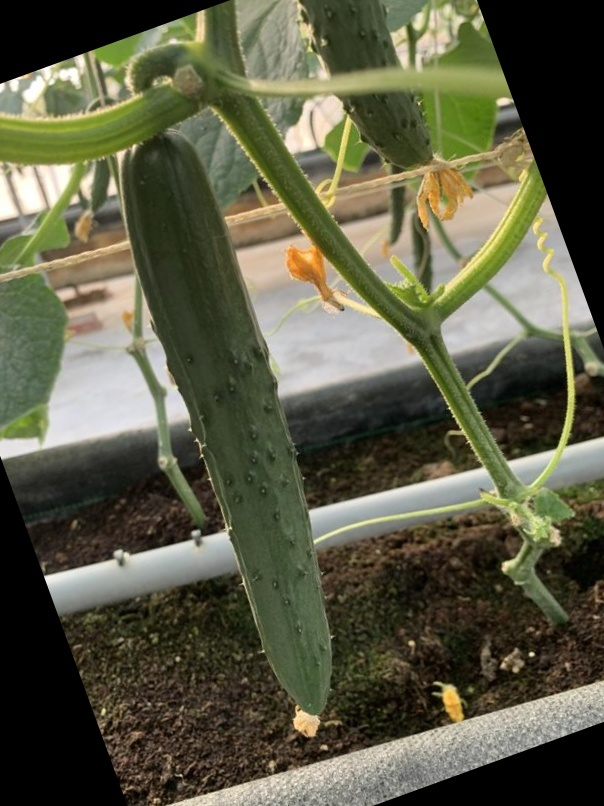mature: (114, 122, 338, 723)
